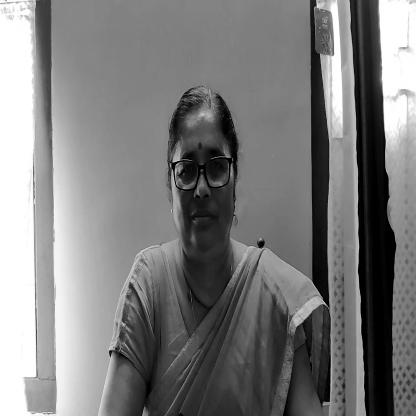Normal: (165, 92, 240, 254)
